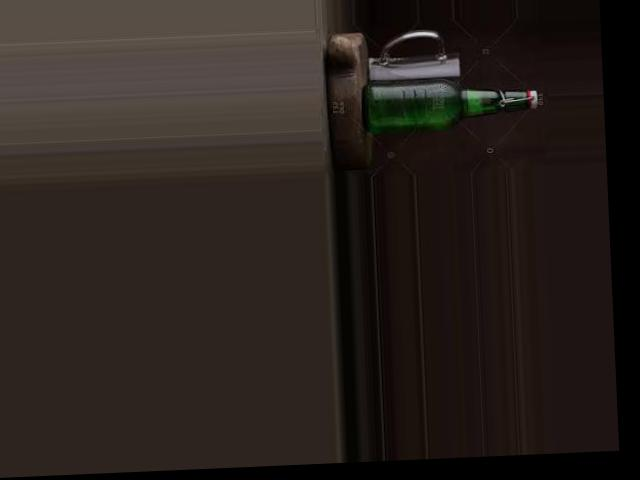beer: (361, 75, 538, 132)
